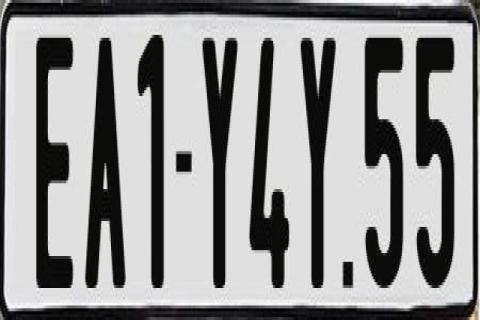0: (247, 35, 291, 303), (362, 32, 406, 300), (414, 32, 453, 285), (134, 29, 162, 294)
A: (82, 29, 124, 294)
E: (36, 29, 76, 282)
Y: (201, 38, 240, 288), (298, 29, 335, 282)
